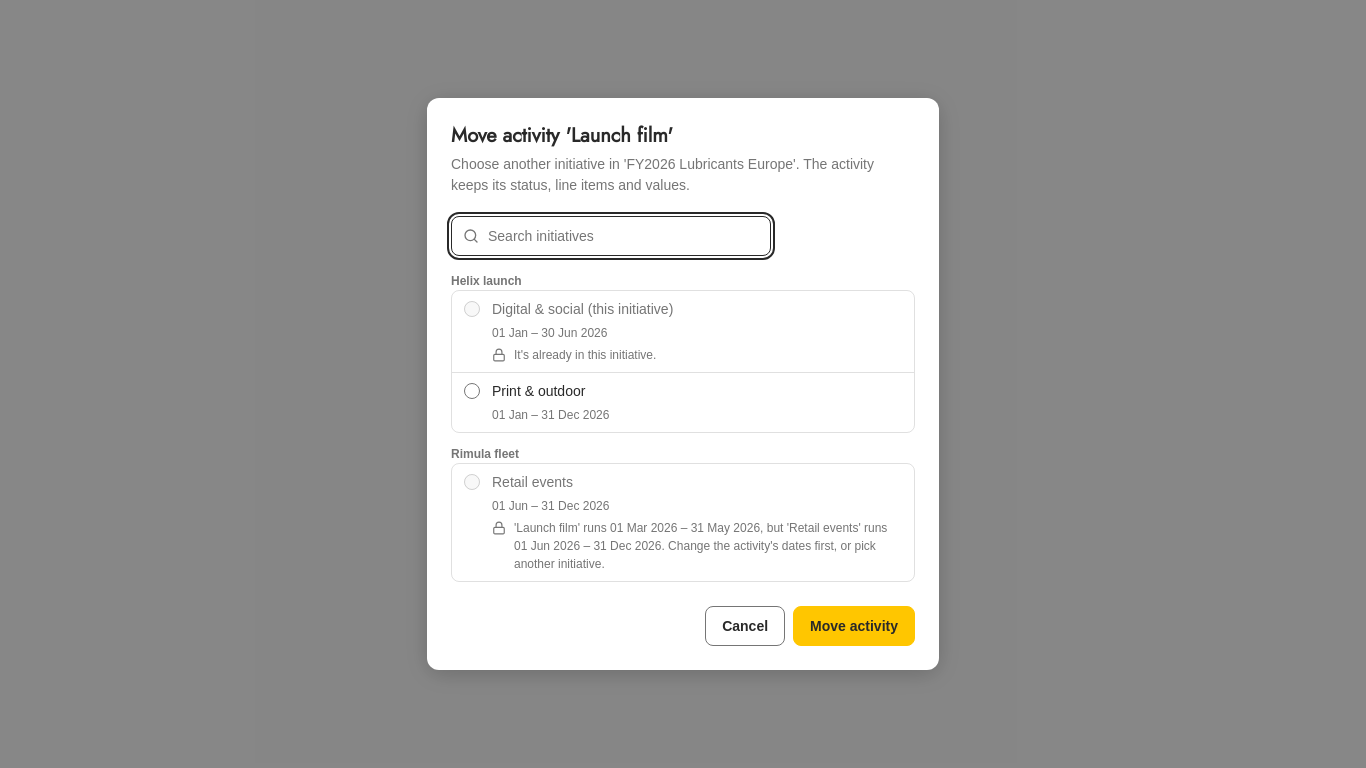
Test case: MoveActivityDialog (feature 006, US5#1, FR-029) › shows the API’s refusal in the dialog and asks for the initiatives again (US5#1)
The width and height of the screenshot is (1366, 768).
Click the radio button labelled "Print & outdoor" at point(472, 391), box [464,383,480,399]
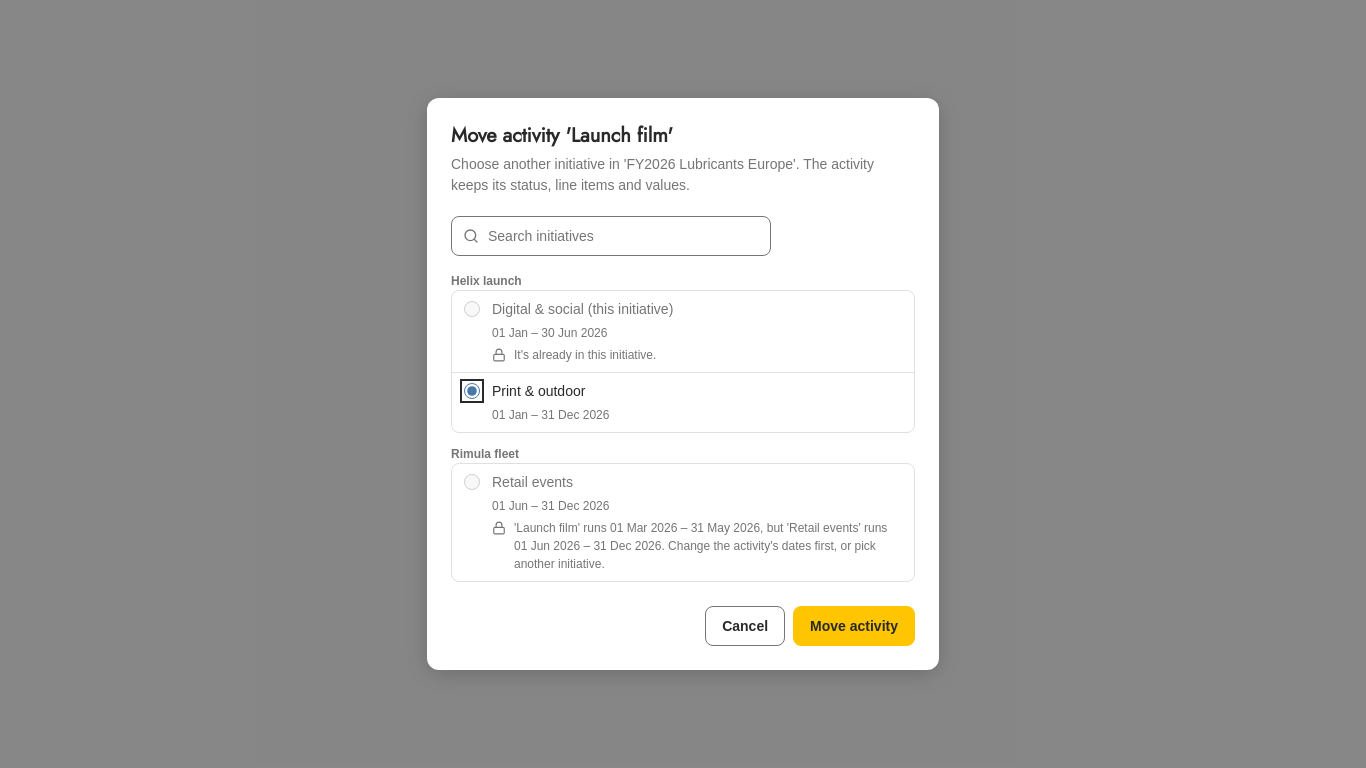
Click the button "Move activity" at point(854, 626), box [793,606,915,646]
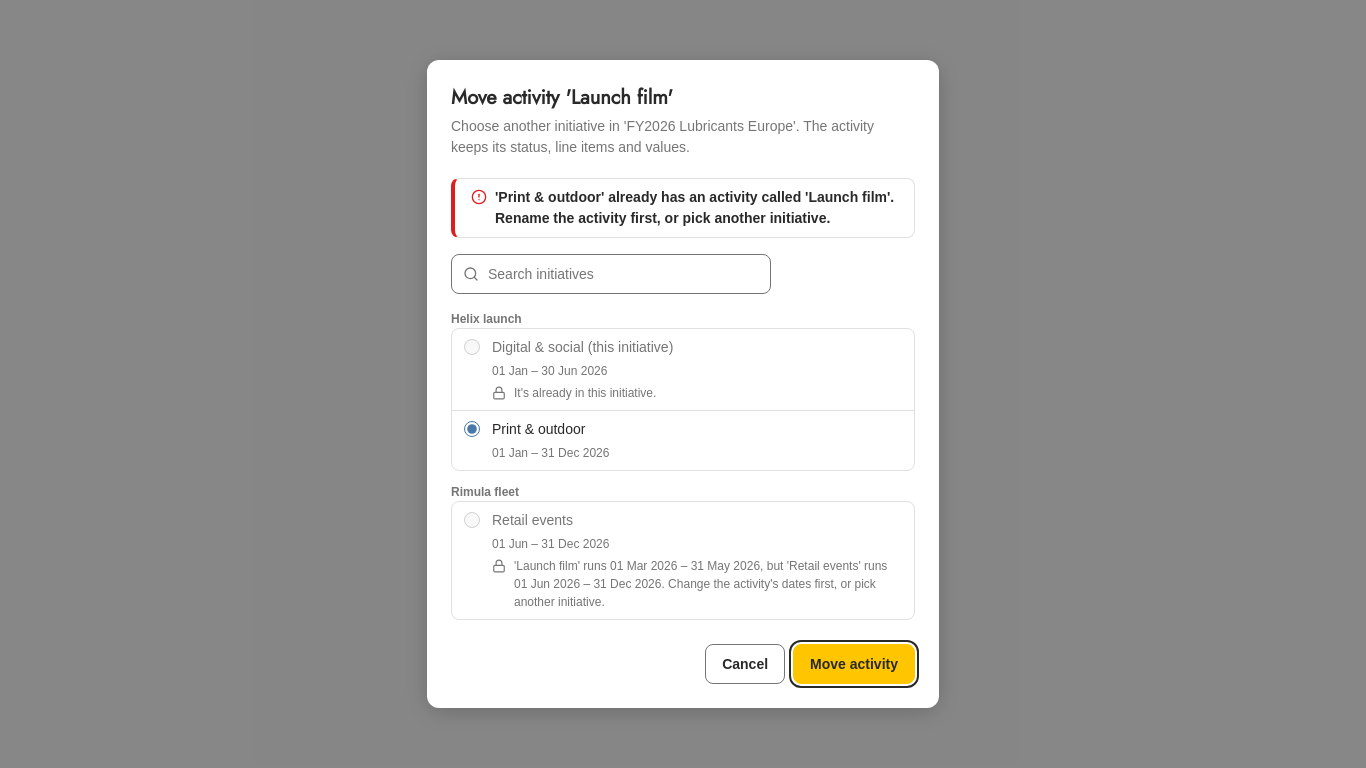
Check: the dialog is shown, box [427,60,939,708]
Check: the message shows "'Print & outdoor' already has an activity called 'Launch film'. Rename the activity first, or pick another initiative.", box [495,189,894,226]
